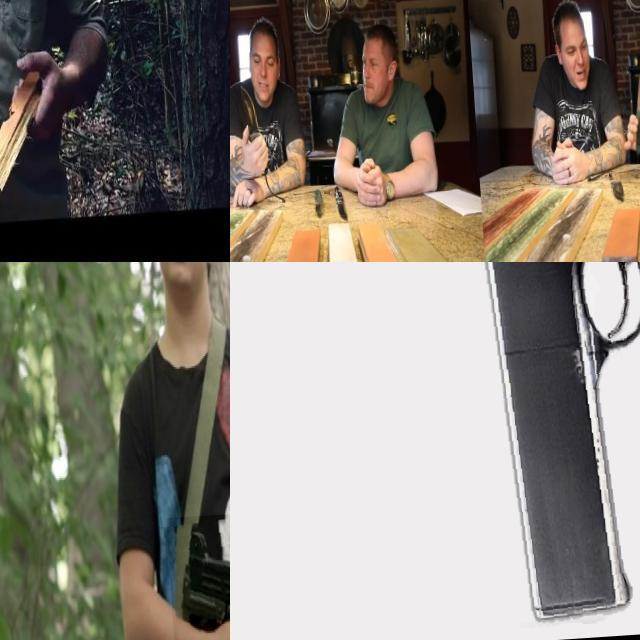-: (0, 0, 28, 127), (230, 79, 264, 155), (612, 70, 640, 156), (592, 0, 627, 58), (230, 0, 263, 29), (626, 0, 640, 51)
gun-knife-thesis - v11 Yolov5 augmented: (230, 262, 640, 640), (160, 512, 230, 640)
